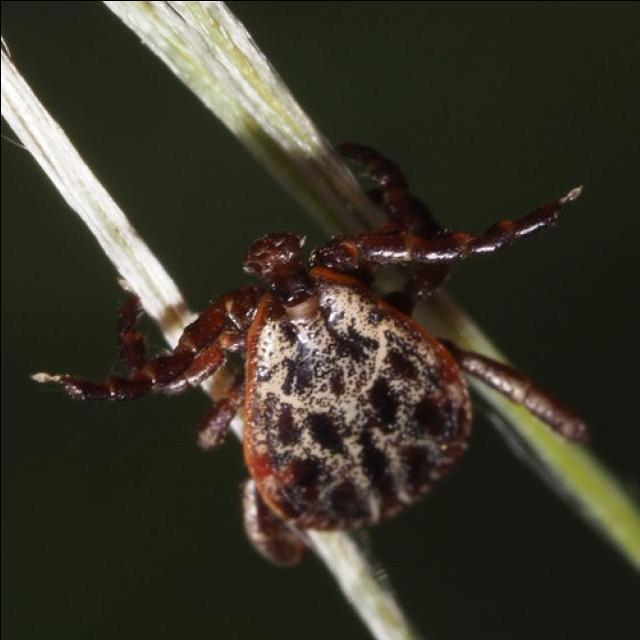Dermacentor Reticulatus-M: (29, 140, 588, 566)
